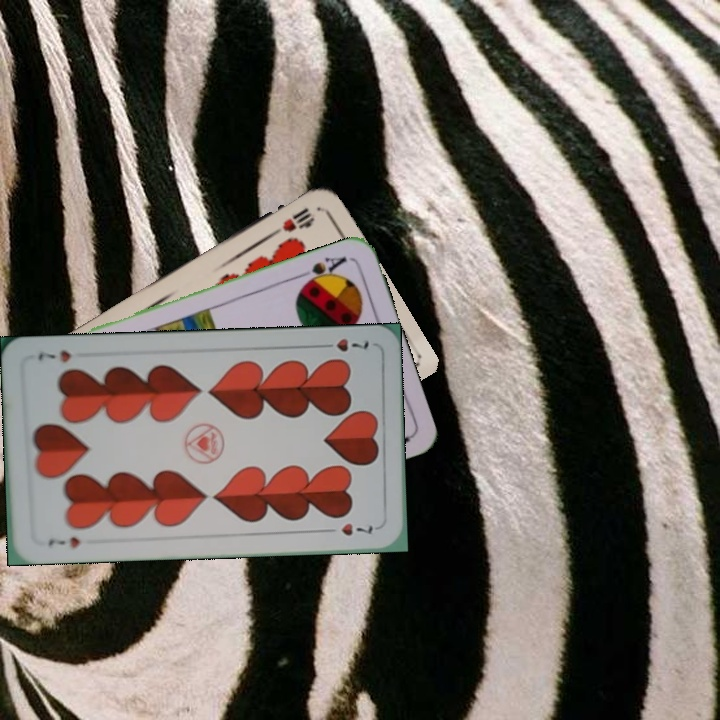H10: (267, 203, 316, 239)
H7: (315, 334, 372, 354), (44, 532, 82, 551)
SA: (294, 252, 349, 289)
